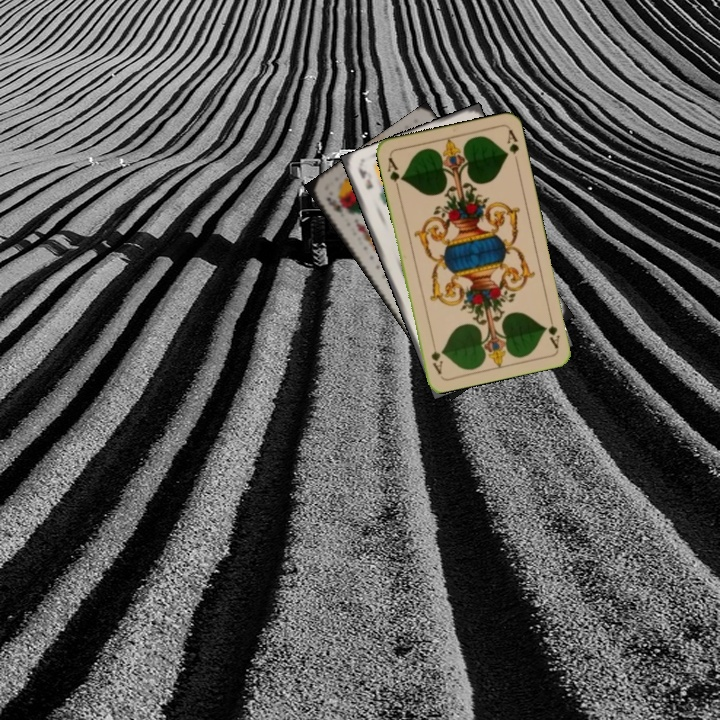EK: (354, 165, 375, 192)
GA: (383, 153, 405, 193), (541, 311, 563, 351)
SK: (323, 193, 345, 215)
